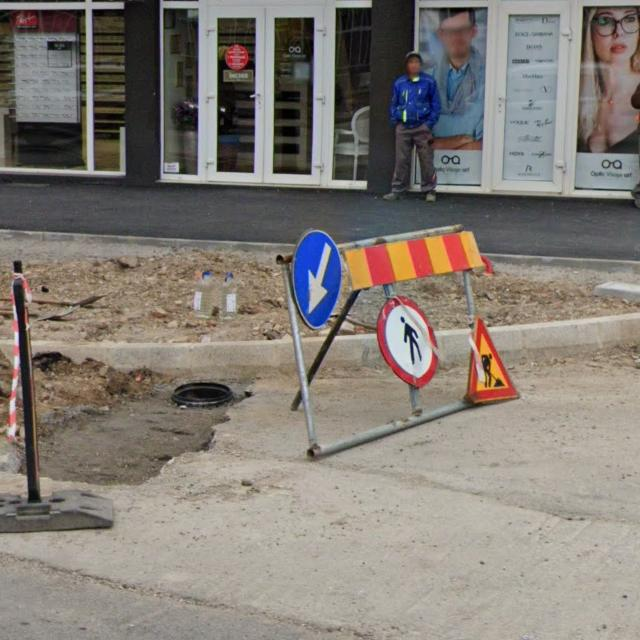mand_pass_left: (292, 230, 342, 330)
warn_construction: (468, 316, 518, 402)
